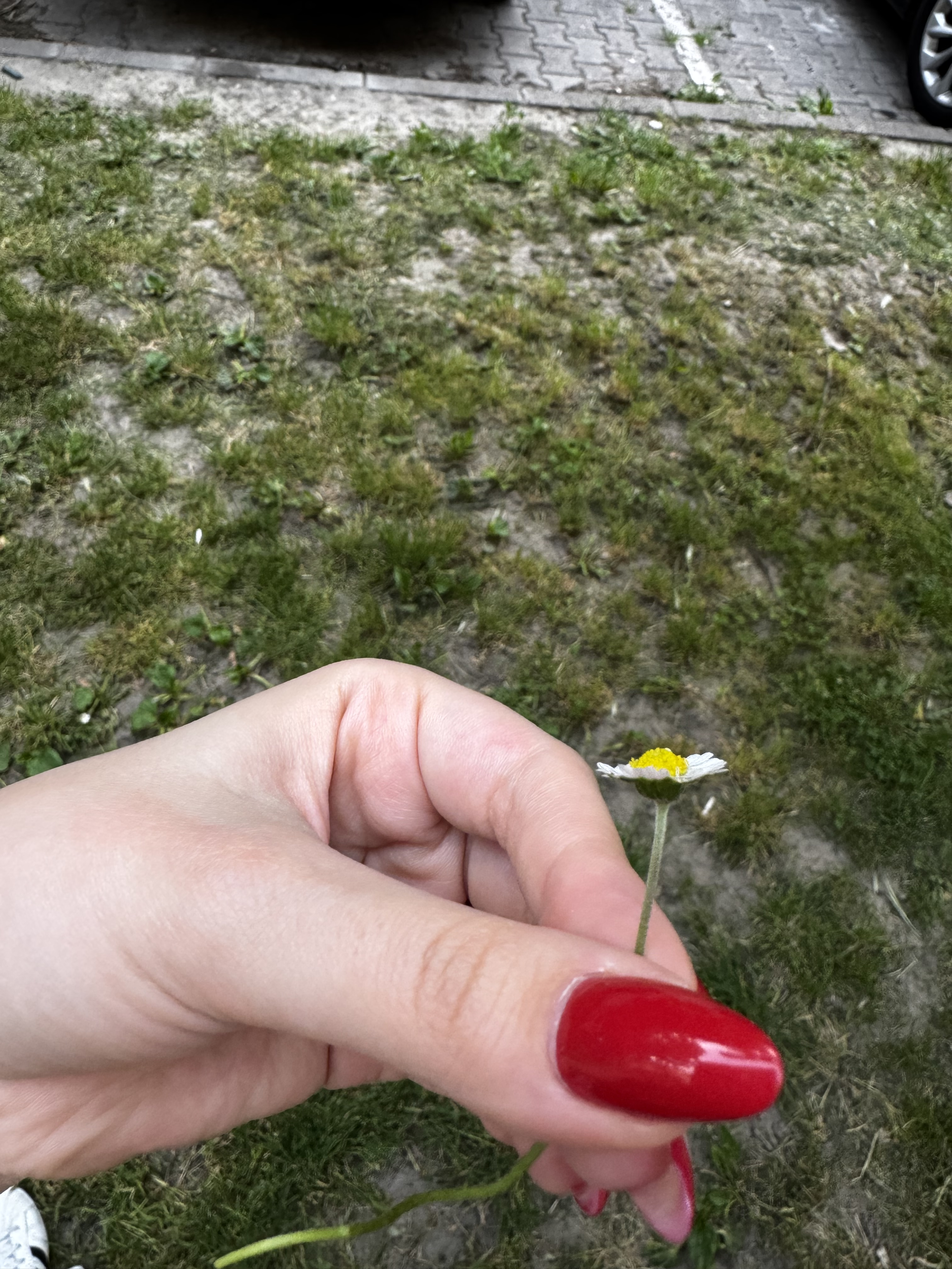daisy: (593, 741, 742, 818)
